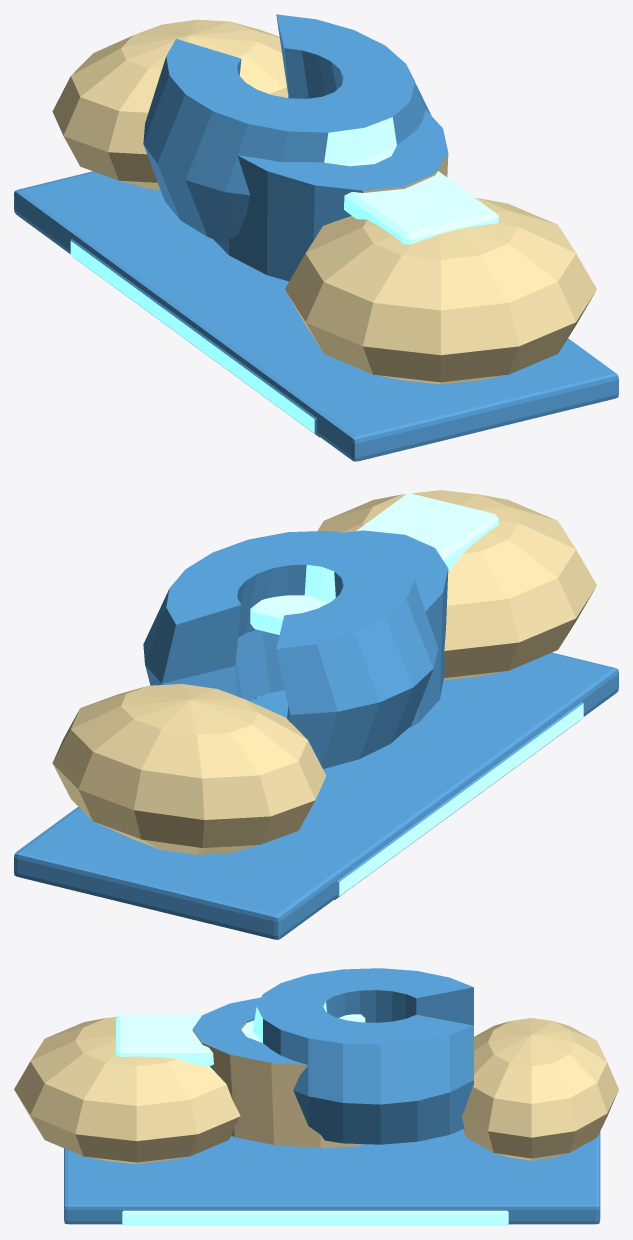
The model's file is right_boot.glb.
3 views of the same model, one above another, from view 1: azimuth 30°, elevation 25°; view 2: azimuth 150°, elevation 25°; view 3: azimuth 270°, elevation 25° (orthographic). The views are drawn at different scales.
Parts seen in each view (by area): view 1: armor_right_boot_v001; view 2: armor_right_boot_v001; view 3: armor_right_boot_v001.
Part boxes in pixels (bbox=[...]): armor_right_boot_v001: bbox=[14, 14, 618, 461]; armor_right_boot_v001: bbox=[14, 490, 618, 939]; armor_right_boot_v001: bbox=[14, 968, 618, 1225].
Size of the model in its own units: 0.118 by 0.09 by 0.291.
